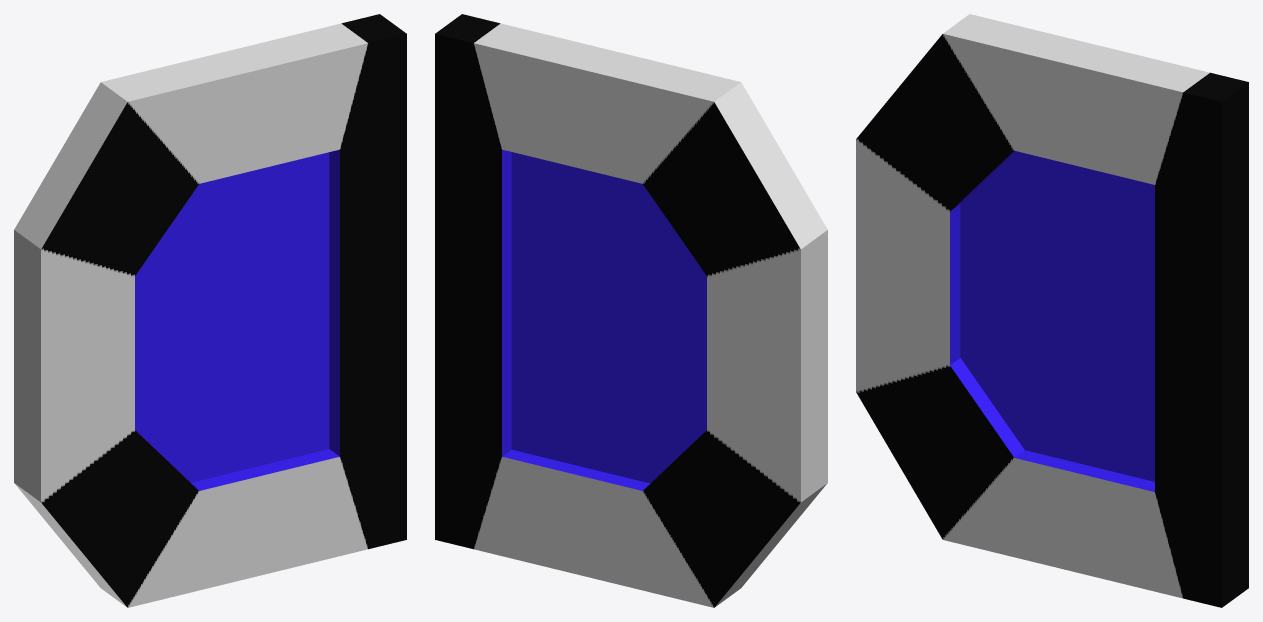
Rendered from Door.fbx.
3 renders of one model, left to right at view 1: azimuth 30°, elevation 25°; view 2: azimuth 150°, elevation 25°; view 3: azimuth 330°, elevation 25°, orthographic.
Visible parts, largest first — view 1: Door1.001; view 2: Door1.001; view 3: Door1.001.
Part boxes in pixels (bbox=[...]): Door1.001: bbox=[14, 14, 406, 607]; Door1.001: bbox=[435, 14, 827, 607]; Door1.001: bbox=[856, 14, 1248, 607].
Bounding box in the file's own units: 529 × 700 × 67.67.
